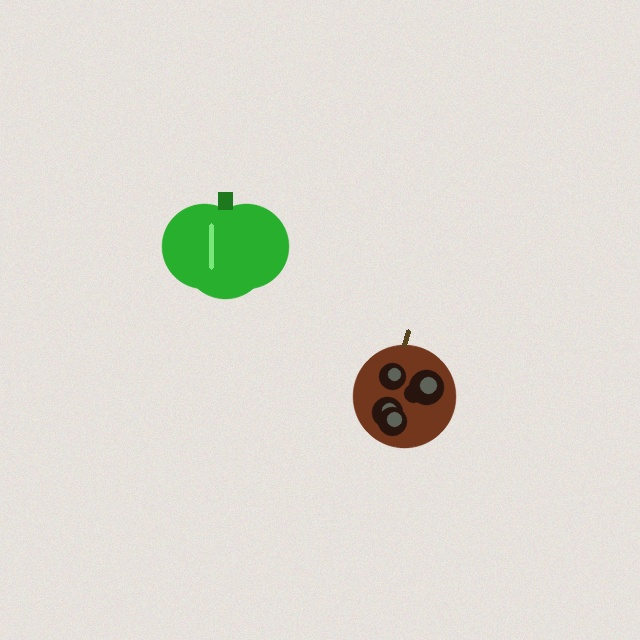Fresh bell pepper: (162, 192, 288, 298)
Rotten apple: (353, 331, 455, 447)
